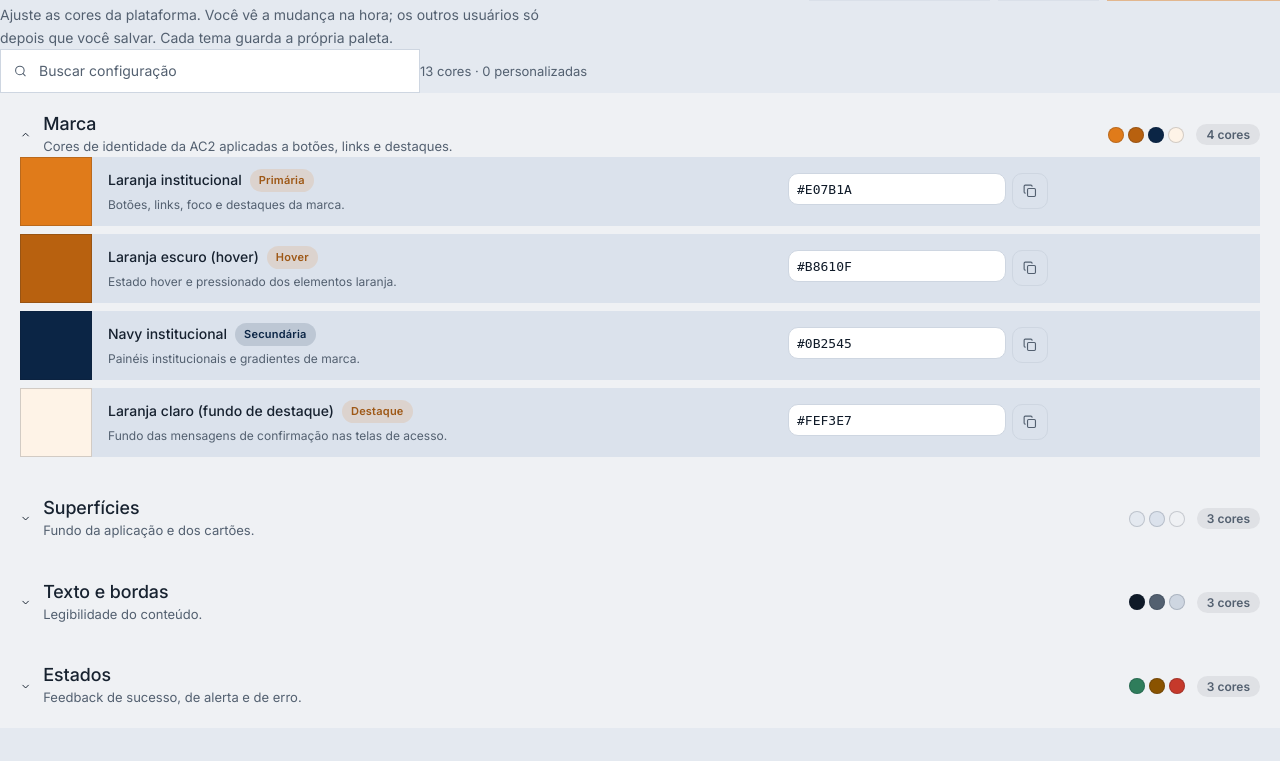
Test: AppearanceSection › o grupo Estados traz a cor de Alerta, com exemplo de onde ela aparece
The image size is (1280, 761).
Step 1. Click the button "Estados Feedback de sucesso, de alerta e de erro. 3 cores" → coordinates (77, 675), box top-left (20, 664), bottom-right (1260, 708)
(page scrolled)
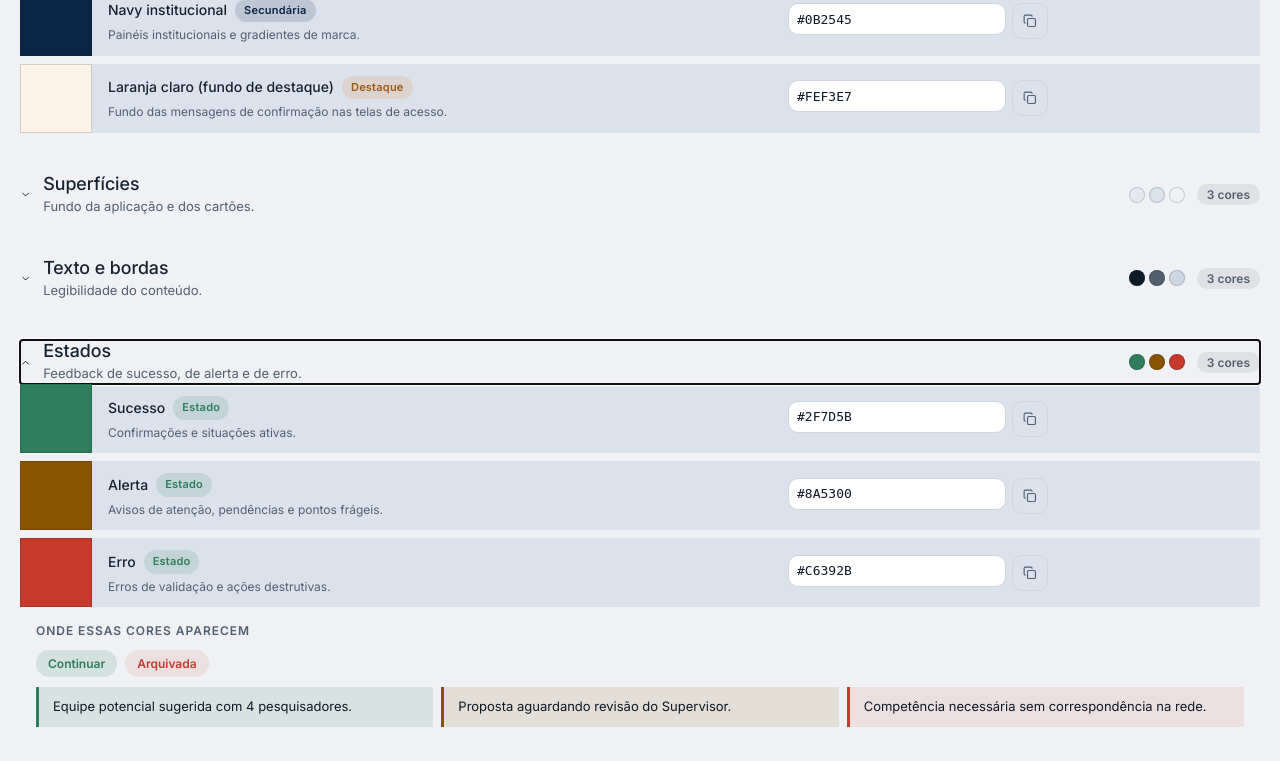
Expected: the heading "Alerta" is shown, top-left (108, 476), bottom-right (148, 494)
Expected: the text "Proposta aguardando revisão do Supervisor." is shown, top-left (441, 687), bottom-right (839, 727)
